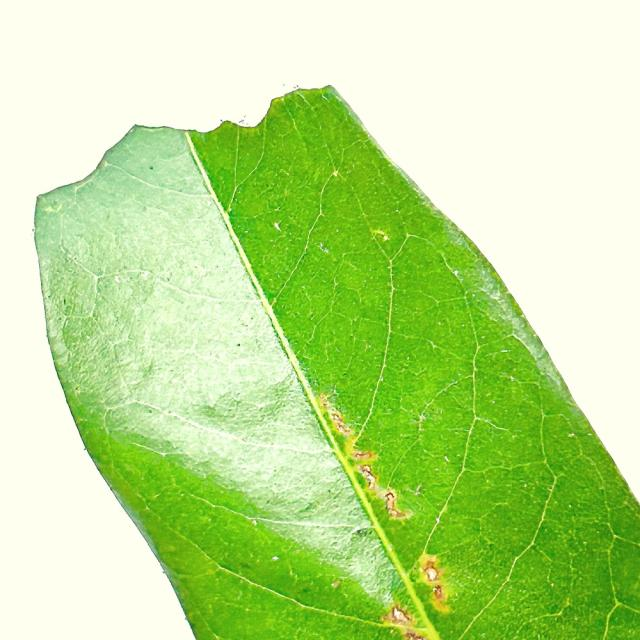Deficiency Leaf: (40, 67, 328, 187)
Lychee: (33, 86, 639, 639)
